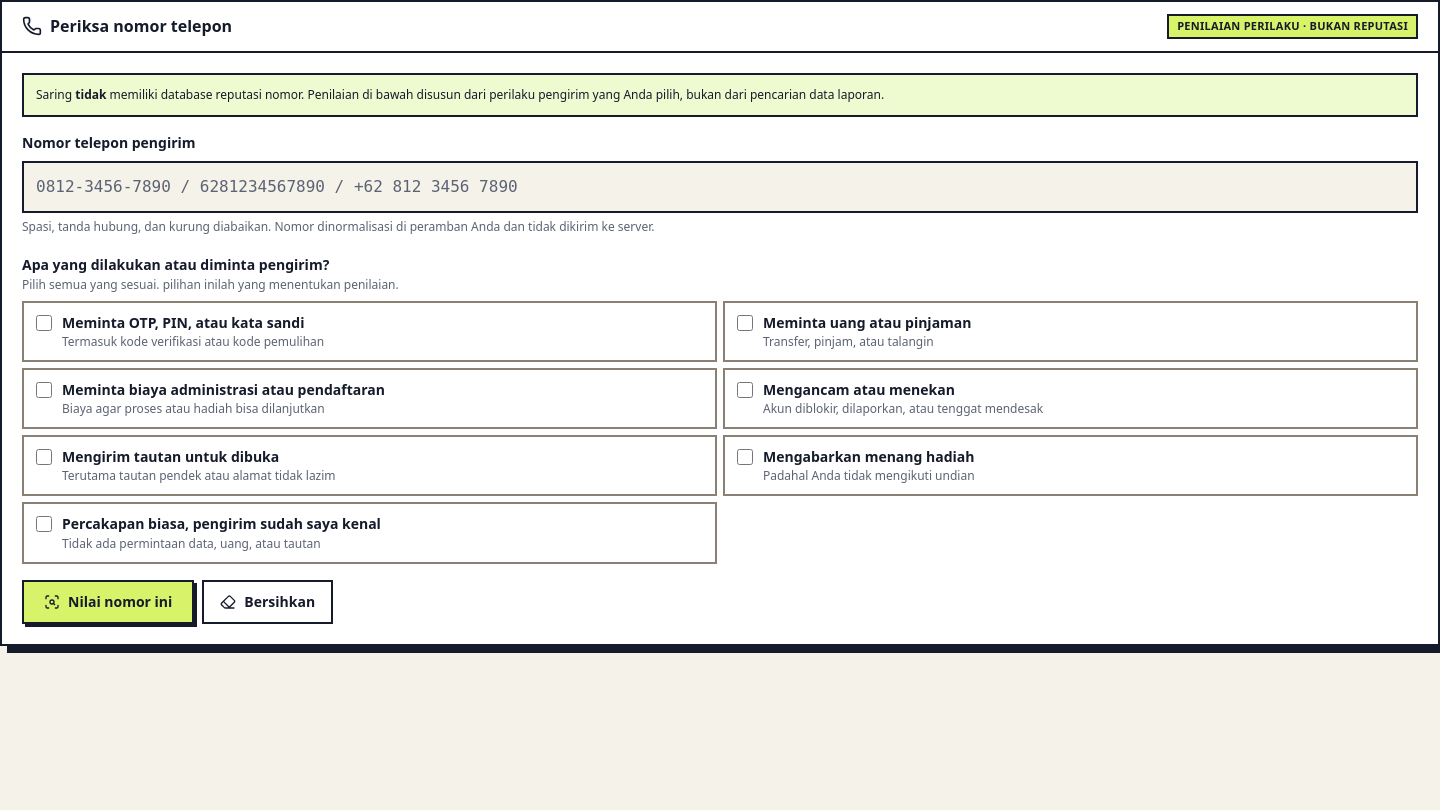
Test: PhoneCheck › requires at least one reported behaviour
The image size is (1440, 810).
In the field labelled "Nomor telepon pengirim": (720, 186) [22,160,1418,212], type "081234567890"
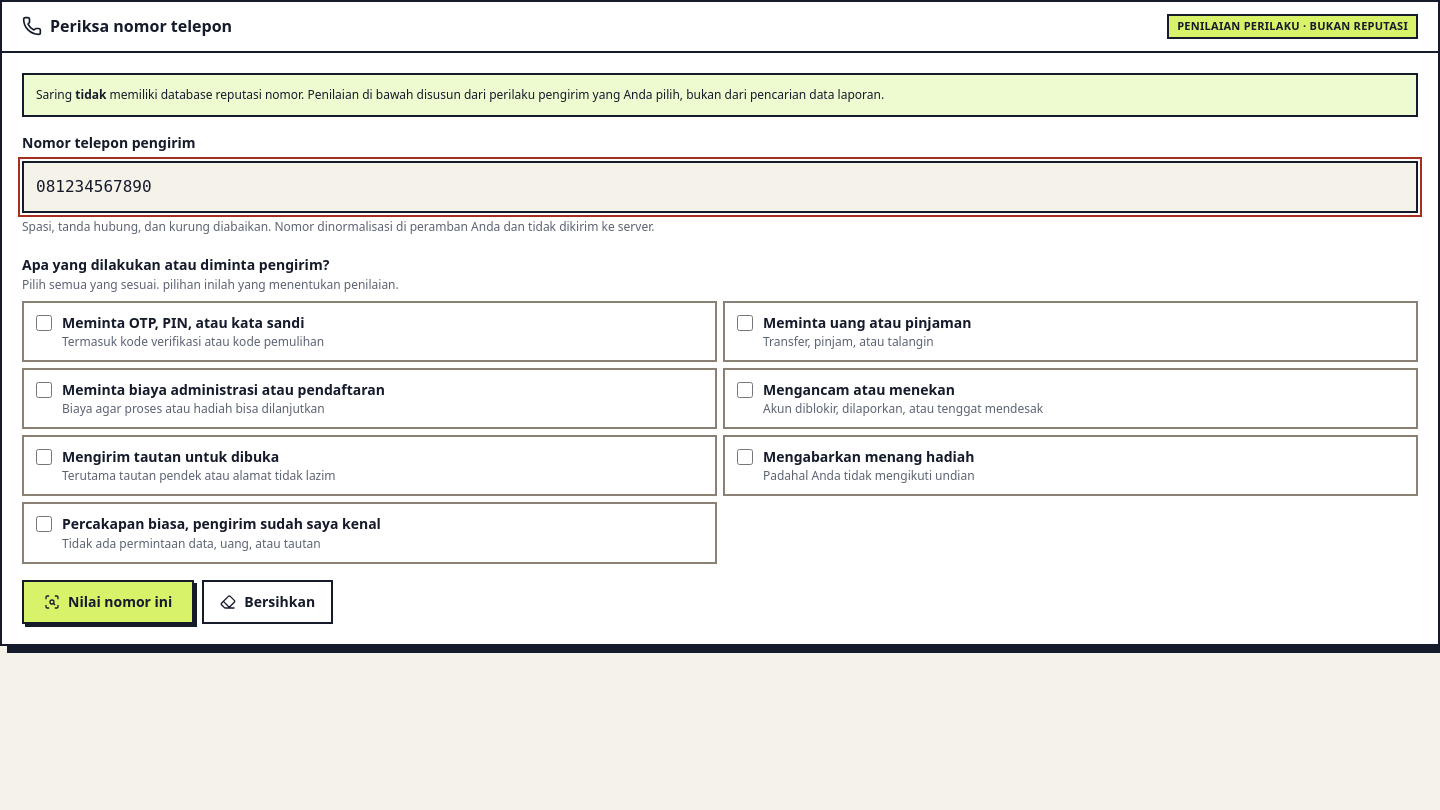
Click the button "Nilai nomor ini": (108, 602) [22,580,194,624]
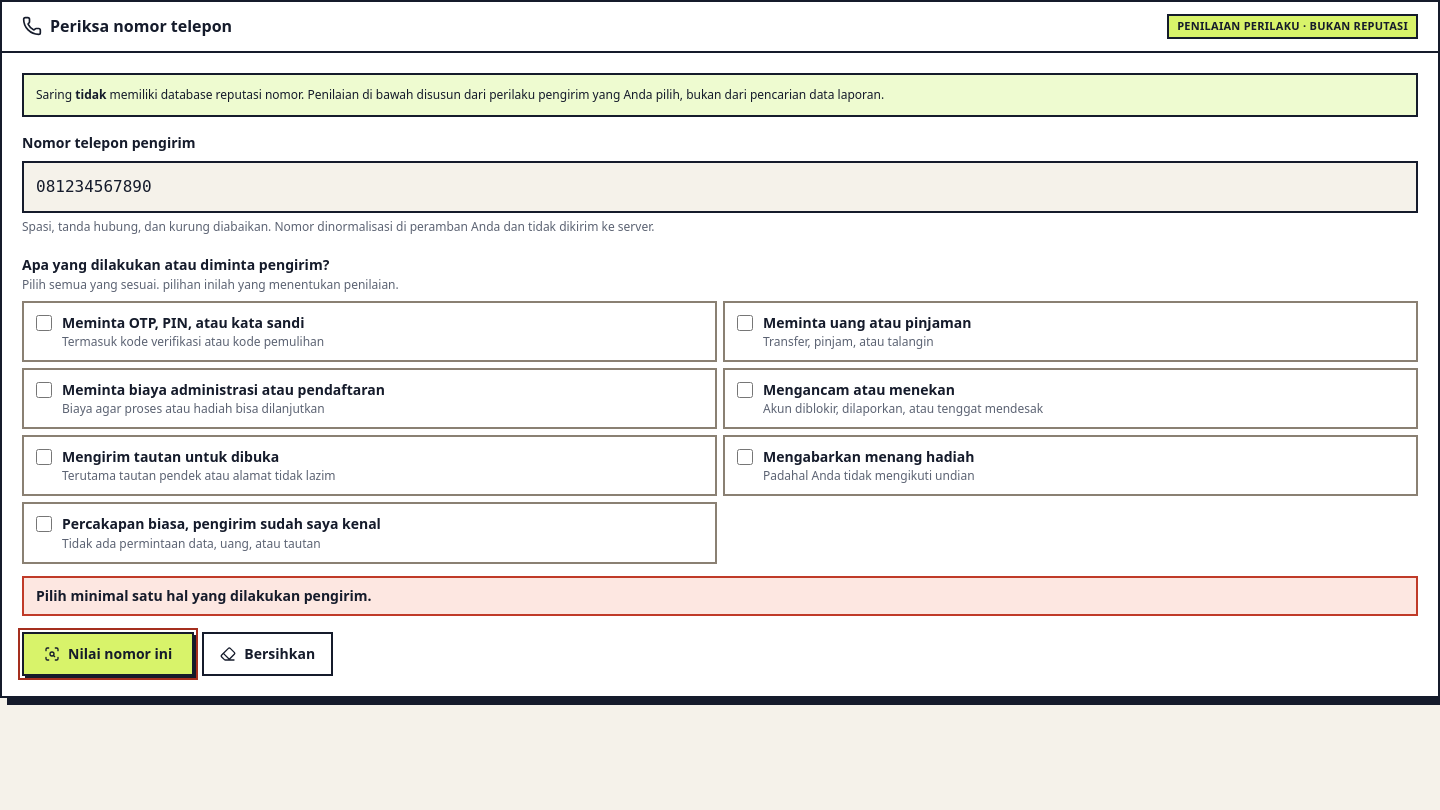
Expected: the message shows "Pilih minimal satu", [36,586,372,604]
